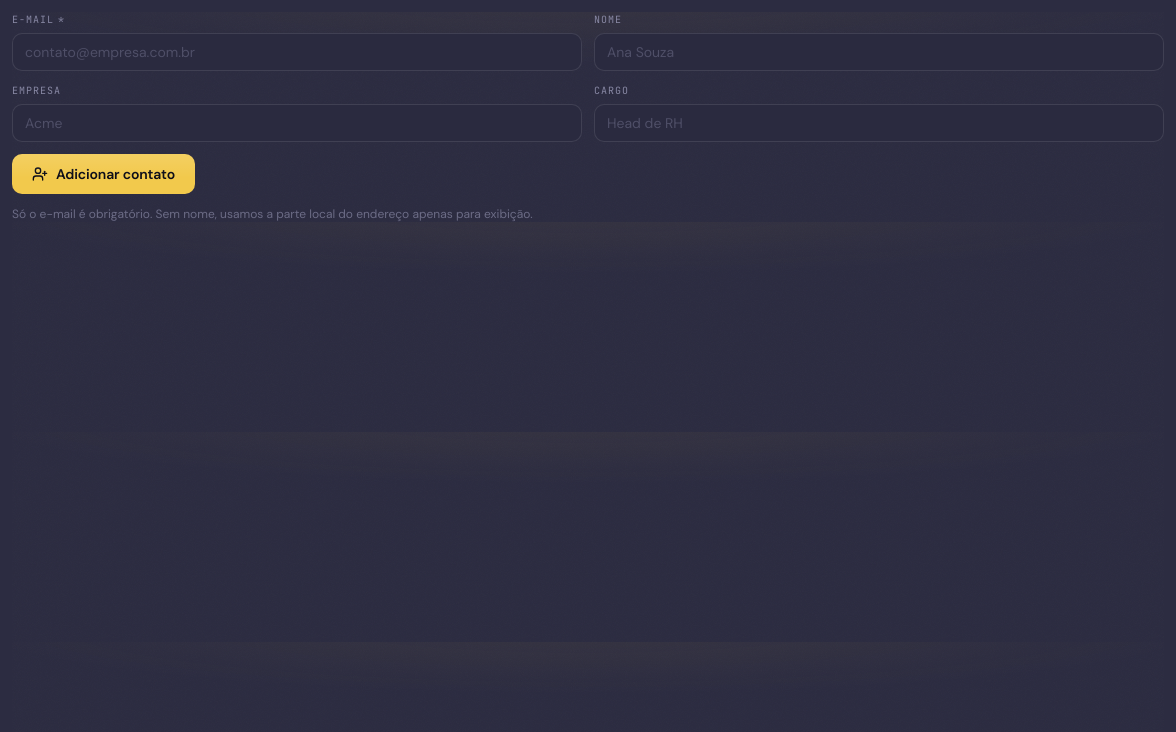
Test: cadastro manual de contatos ROS › recusa e-mail duplicado com erro acessível e não adiciona
Type "ana@example.com" into the field labelled "E-mail". click: [297, 52]
box: [12,33,582,71]
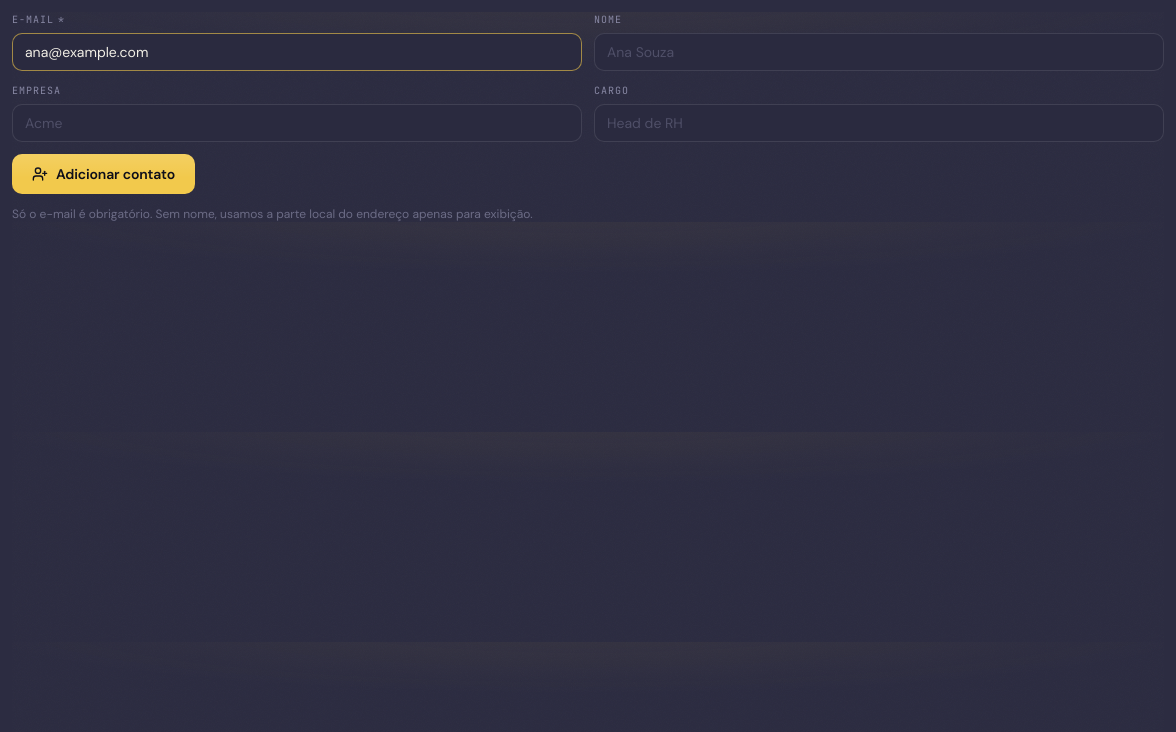
Click the button "Adicionar contato". click: [104, 174]
box: [12,154,195,194]
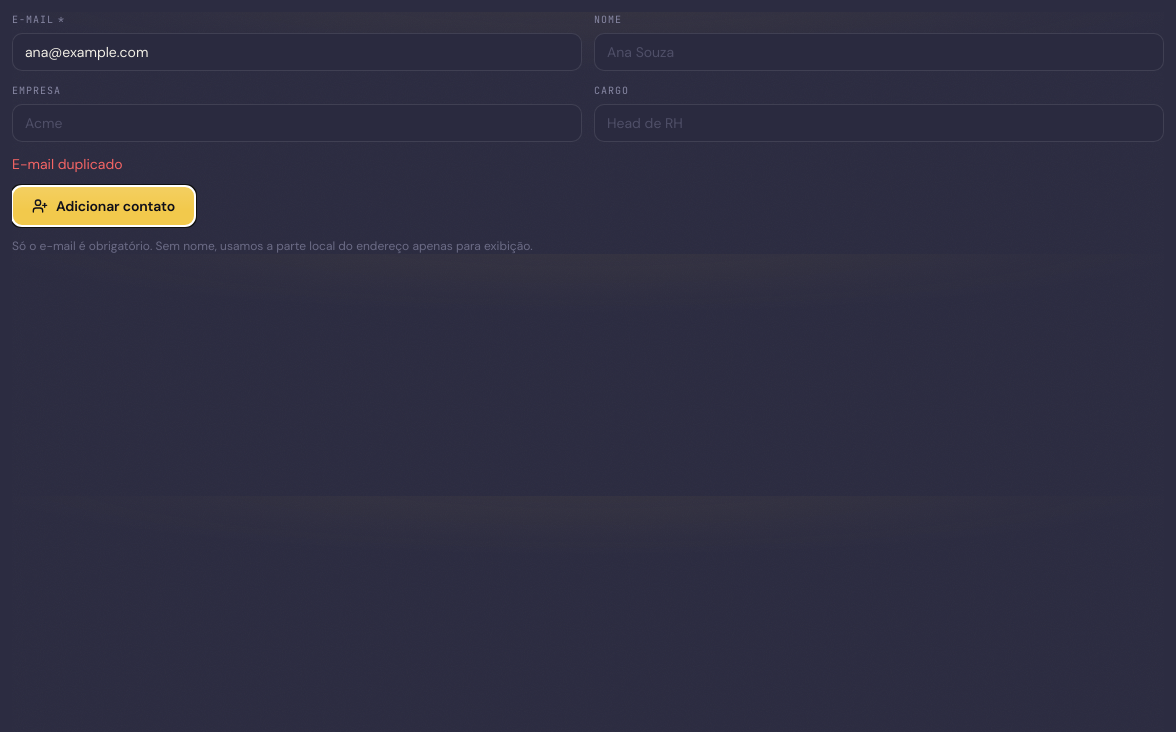
Result: the text "E-mail duplicado" is shown at [12,155,122,173]
